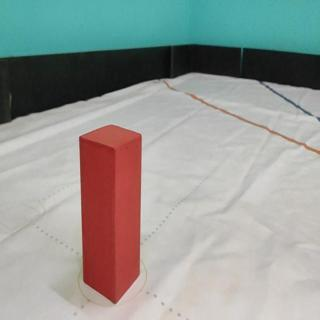redbox: (79, 122, 142, 304)
